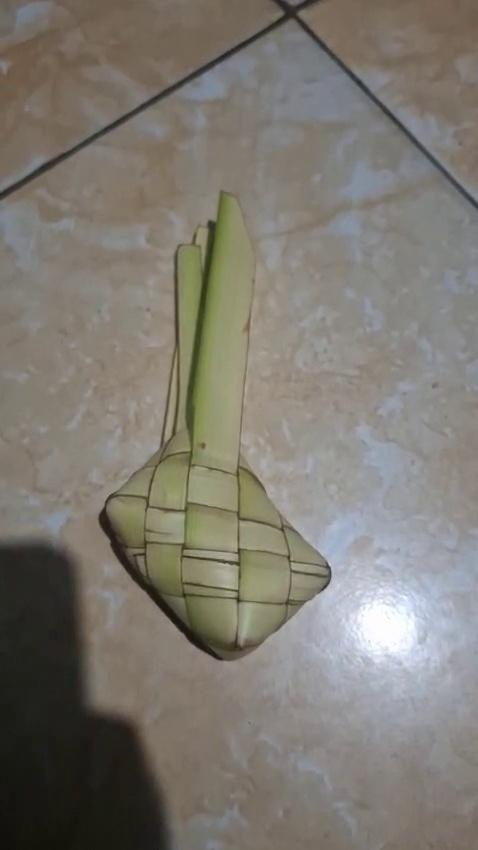Tipat Bantal: (97, 192, 334, 674)
